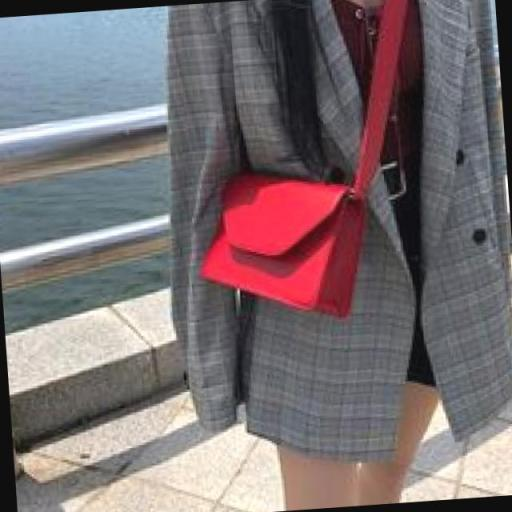bag: (186, 170, 380, 324)
